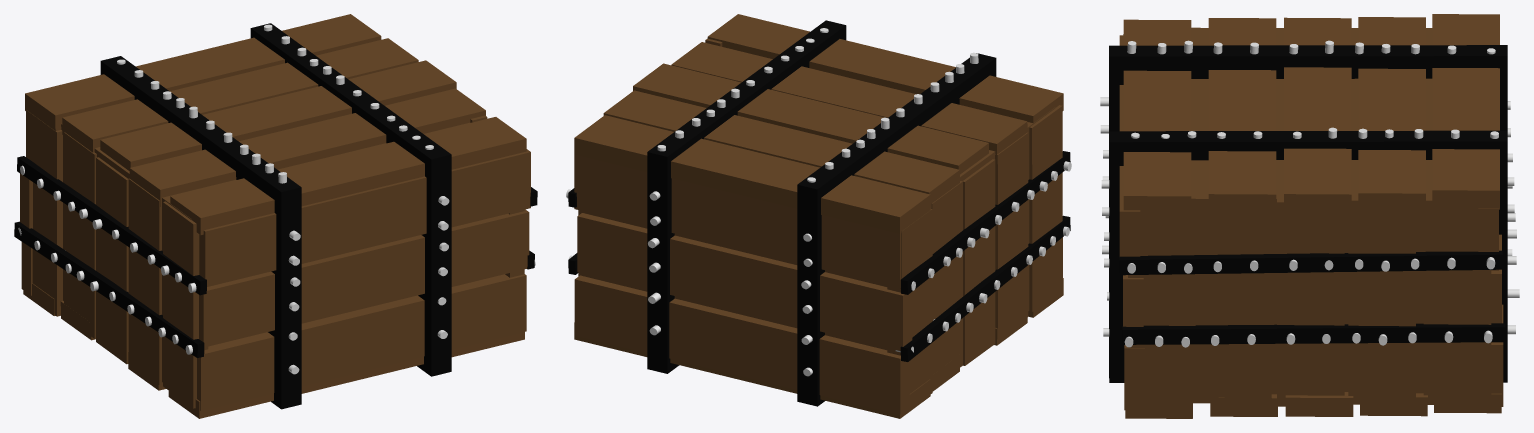
The model's file is case.gltf.
3 views of the same model, side by side, from view 1: azimuth 30°, elevation 25°; view 2: azimuth 150°, elevation 25°; view 3: azimuth 270°, elevation 25° (orthographic). The views are drawn at different scales.
Visible parts, largest first — view 1: Cube.020; view 2: Cube.020; view 3: Cube.020.
Boxes of the visible parts, box(x1,y1,x2,y2) form: Cube.020: box(14, 14, 537, 418); Cube.020: box(566, 14, 1071, 418); Cube.020: box(1100, 14, 1519, 418).
Size of the model in its own units: 40.14 by 25.01 by 37.32.
